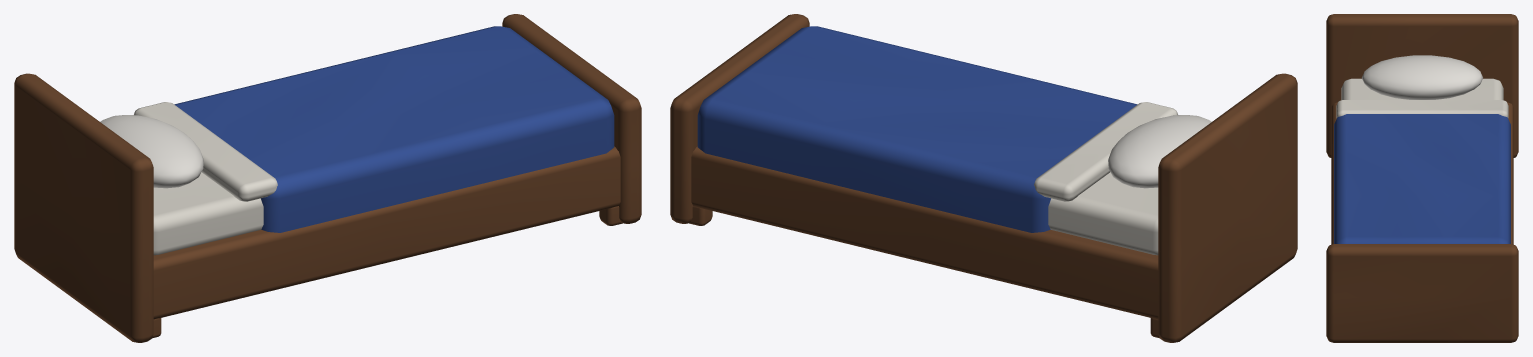
File: furn_lh_cot.glb
The picture shows the model from 3 angles, left to right: view 1: azimuth 30°, elevation 25°; view 2: azimuth 150°, elevation 25°; view 3: azimuth 270°, elevation 25°; orthographic projection. The views are drawn at different scales.
Parts seen in each view (by area): view 1: furn_lh_cot_main; view 2: furn_lh_cot_main; view 3: furn_lh_cot_main.
Part boxes in pixels (box(x1,y1,x2,y2)): furn_lh_cot_main: box(14, 14, 641, 342); furn_lh_cot_main: box(670, 14, 1297, 342); furn_lh_cot_main: box(1326, 14, 1518, 342).
Bounding box in the file's own units: 1.8 × 0.62 × 0.76.
